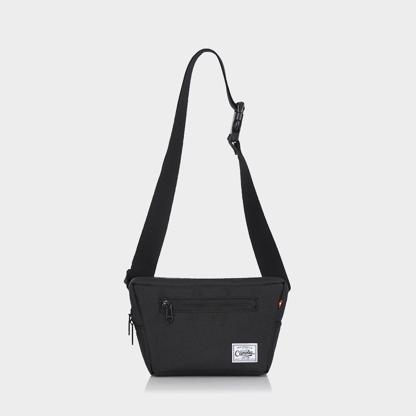not trash: (126, 46, 291, 378)
